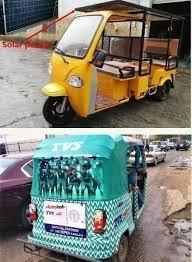keke: (39, 0, 182, 125), (25, 128, 151, 260)
